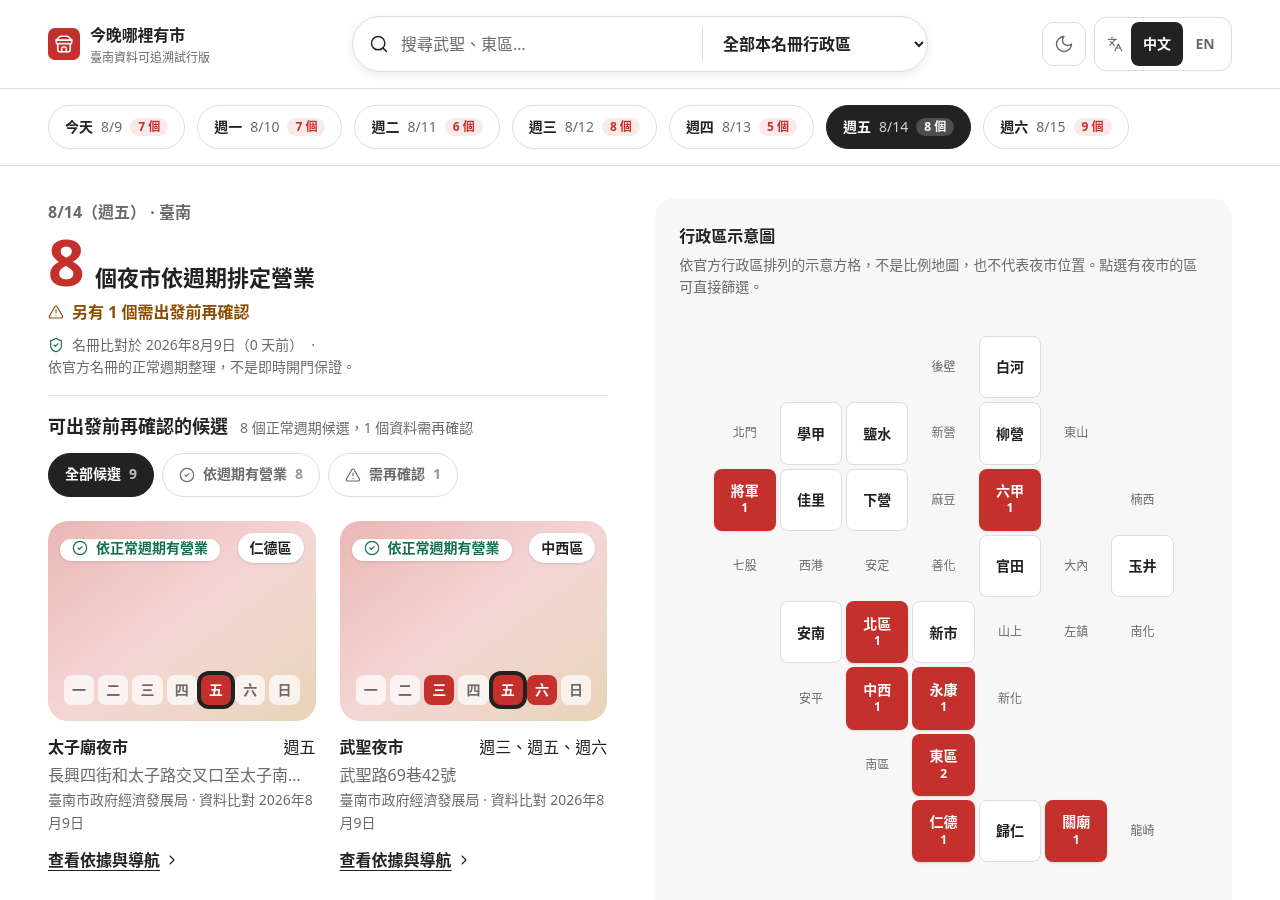
Test case: trusted public experience › filters the visible list by decision status without changing the summary
The width and height of the screenshot is (1280, 900).
What coordinates should you click on to do the following:
click the button "需再確認 1"
I would click on:
 (393, 475)
Its box is [328,453,458,497].
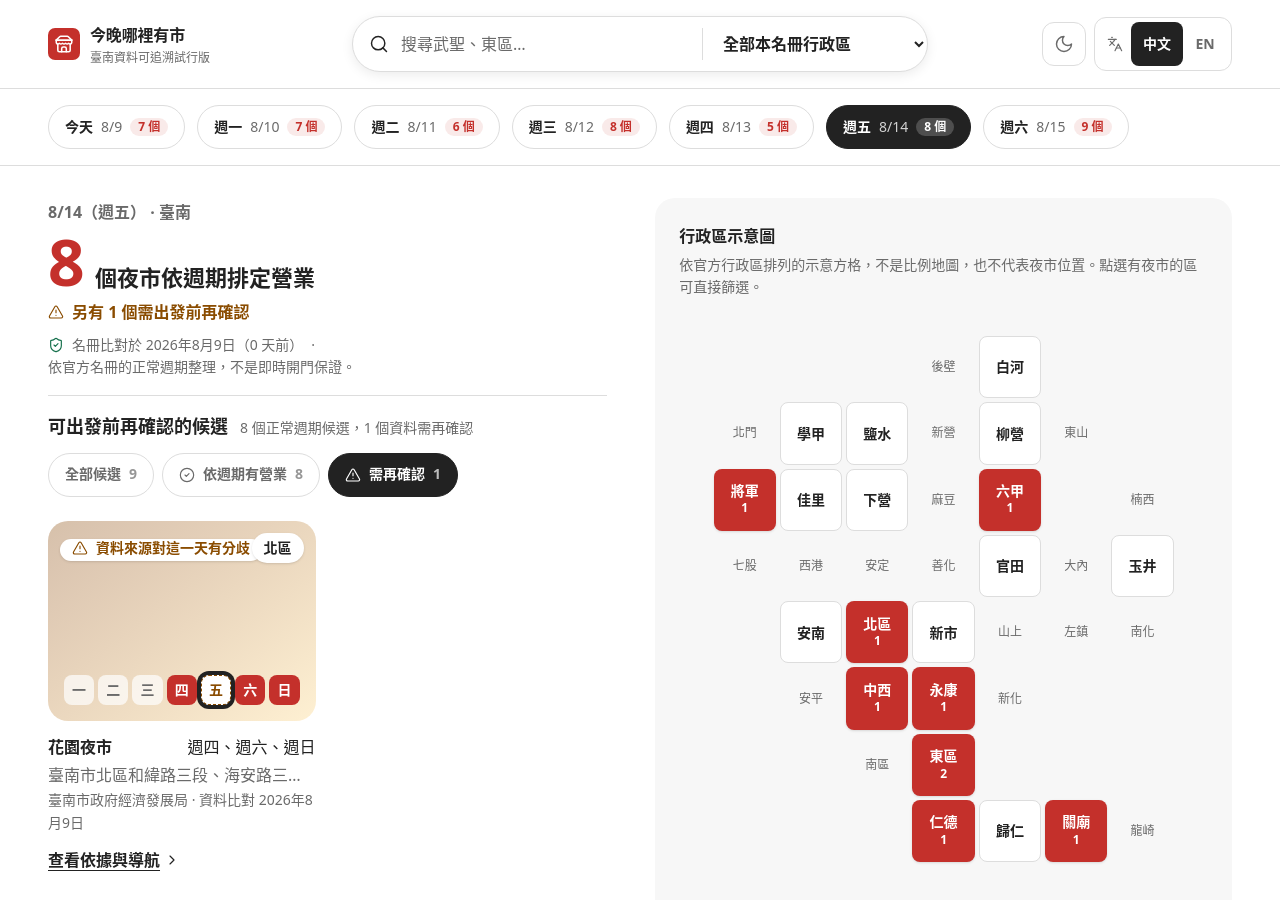
Expected: the text "8 個正常週期候選，1 個資料需再確認" is shown, [240,417,473,439]
Expected: the heading "武聖夜市" is gone
